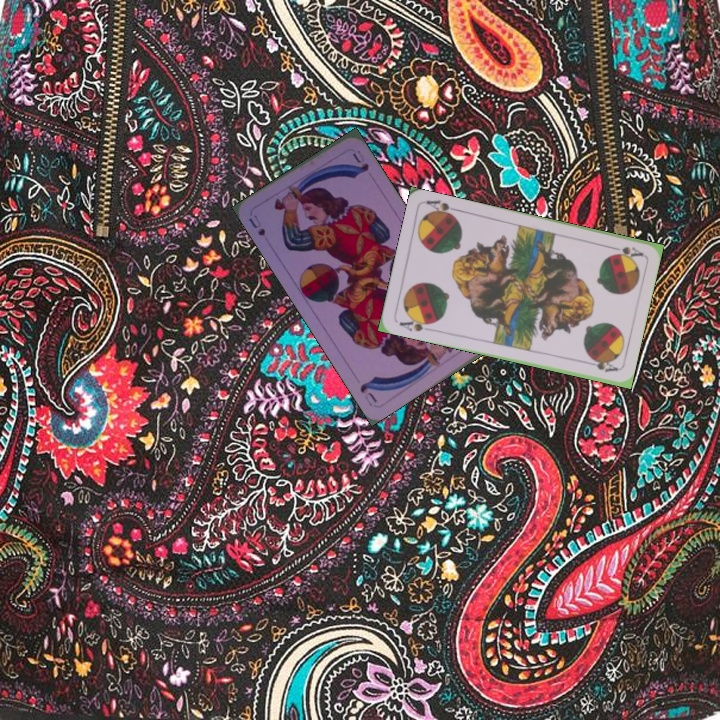SA: (395, 313, 436, 334), (605, 242, 646, 261)
SU: (245, 211, 268, 238)
